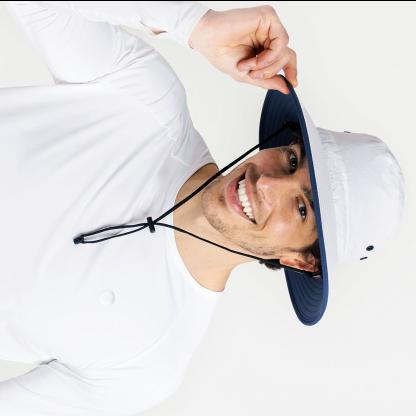hat: (253, 72, 409, 331)
